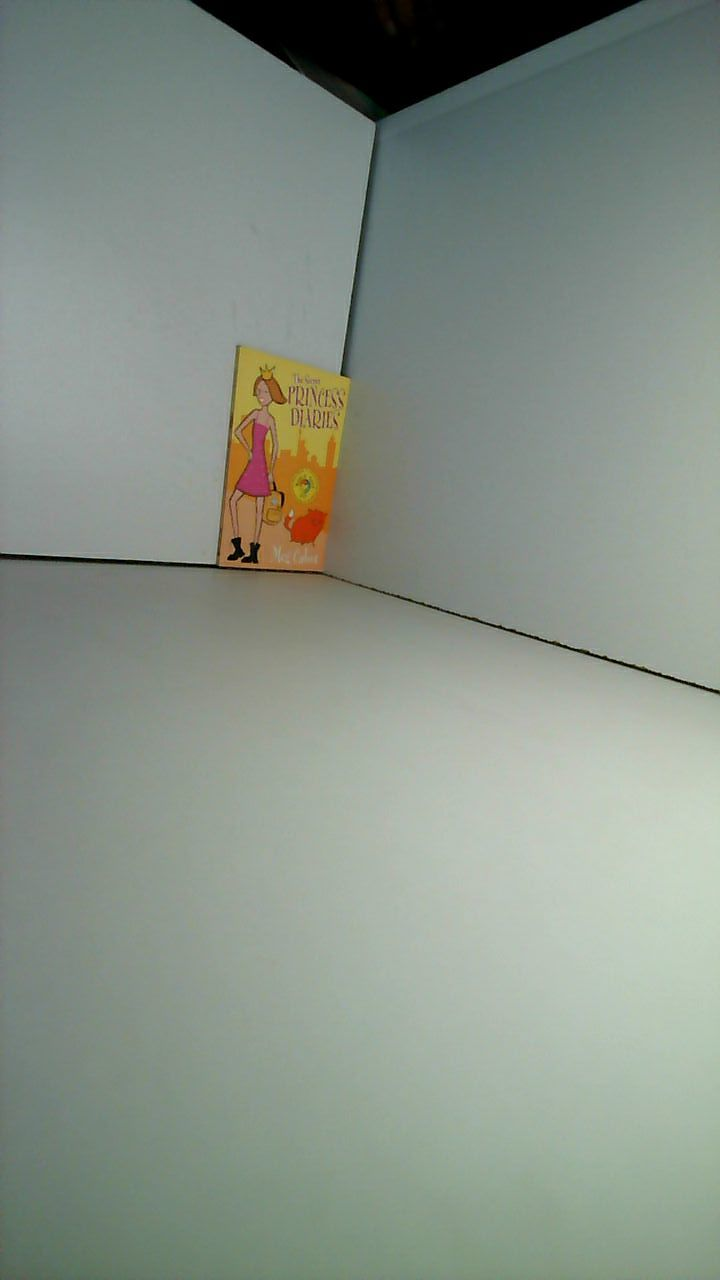book: (206, 332, 356, 588)
